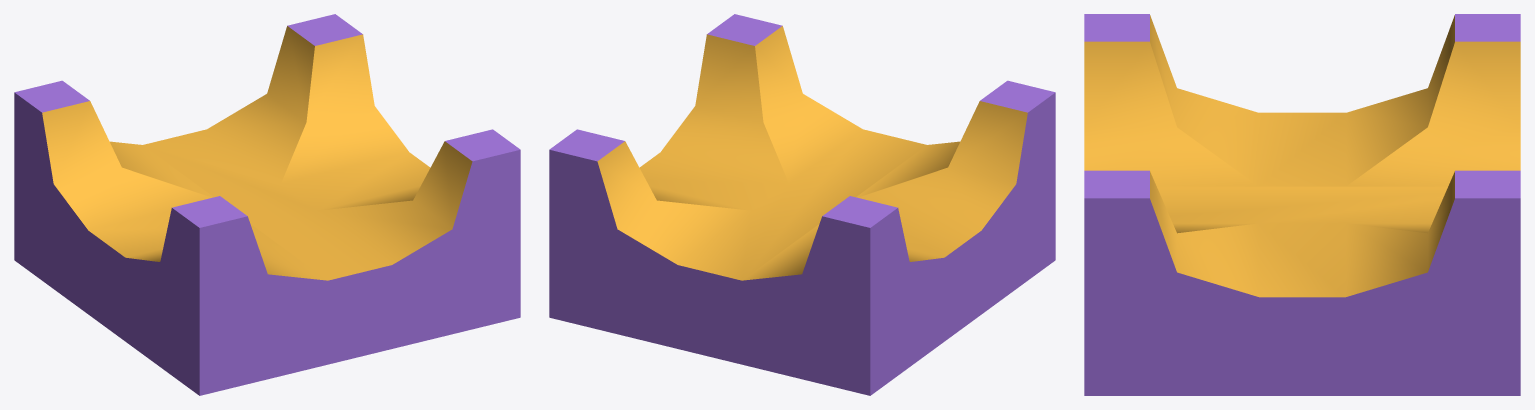
File: cross.glb
3 renders of one model, left to right at view 1: azimuth 30°, elevation 25°; view 2: azimuth 150°, elevation 25°; view 3: azimuth 270°, elevation 25°, orthographic. The views are drawn at different scales.
Visible parts, largest first — view 1: cross; view 2: cross; view 3: cross.
Part boxes in pixels (x1,y1,x2,y2): cross: [14, 14, 520, 395]; cross: [549, 14, 1055, 395]; cross: [1084, 14, 1520, 395].
Size of the model in its own units: 1 by 0.5 by 1.
1 material, 1 textured.
